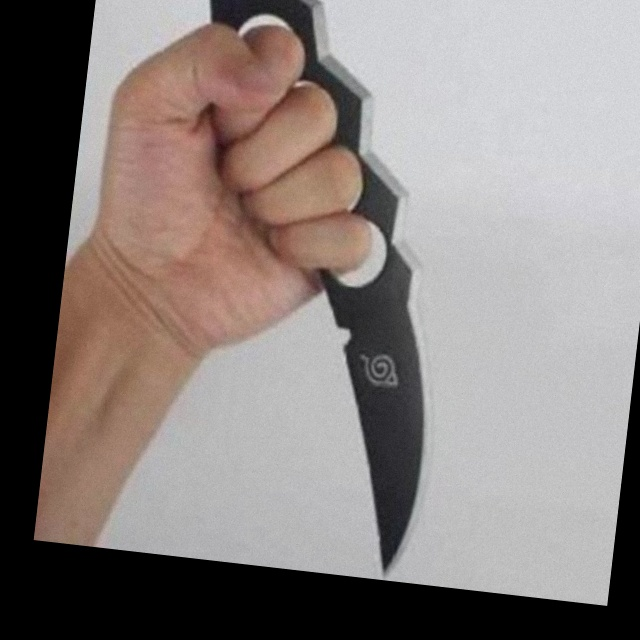Sharp-Object: (143, 0, 481, 579)
